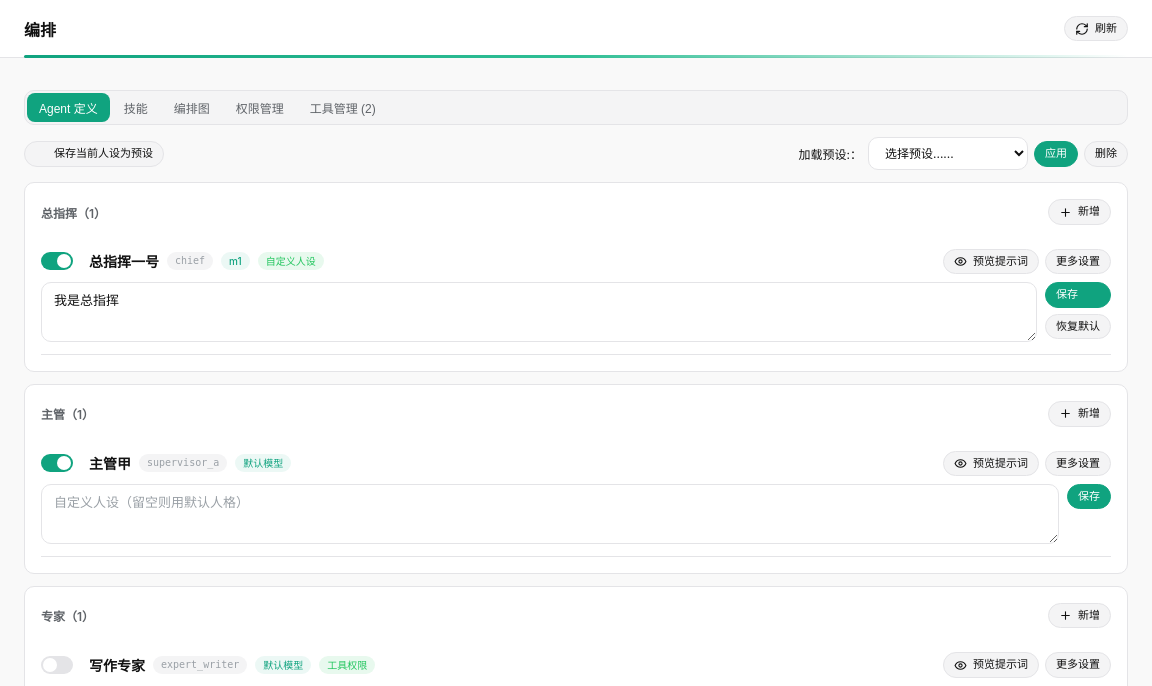
Scenario: Orchestration.vue › DOM 交互：更多设置展开/收起面板
expect the text "完整系统提示词覆盖" is not shown: met
Click the button "更多设置" in the row of "自定义人设".
click(1078, 262)  # box [1045, 249, 1111, 274]
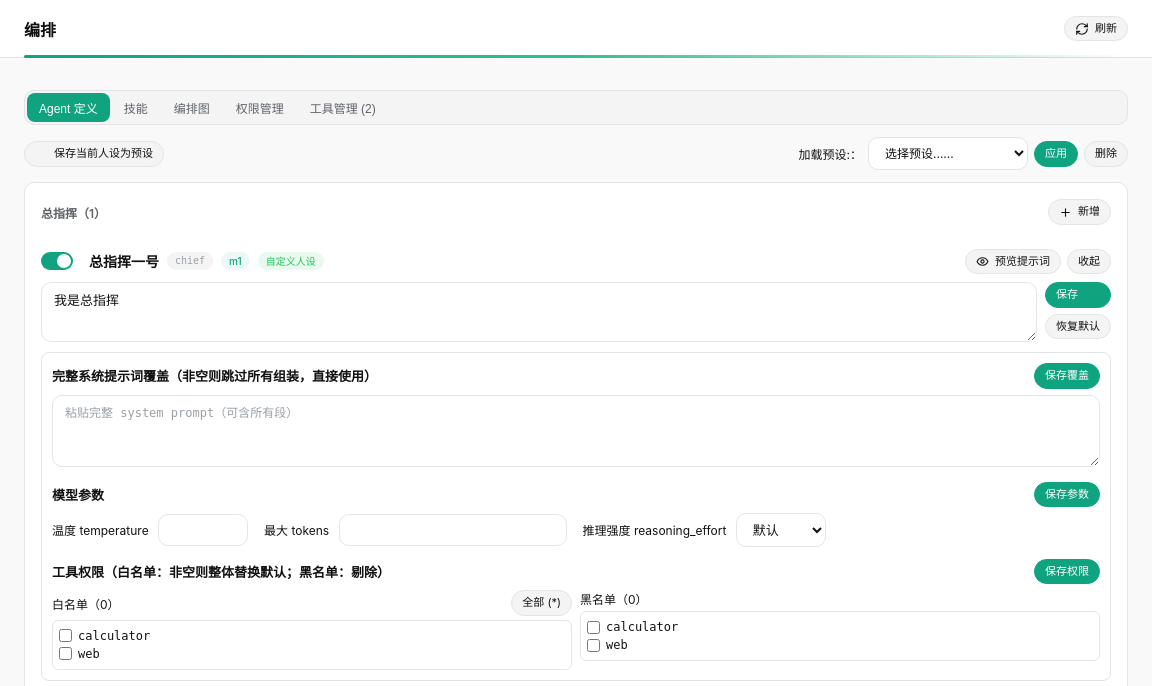
expect the text "工具权限" is shown: met, box [52, 564, 390, 580]
expect the text "完整系统提示词覆盖" is shown: met, box [52, 368, 377, 384]
expect the text "模型参数" is shown: met, box [52, 485, 104, 504]
Click the button "收起".
click(1089, 262)  # box [1067, 249, 1111, 274]
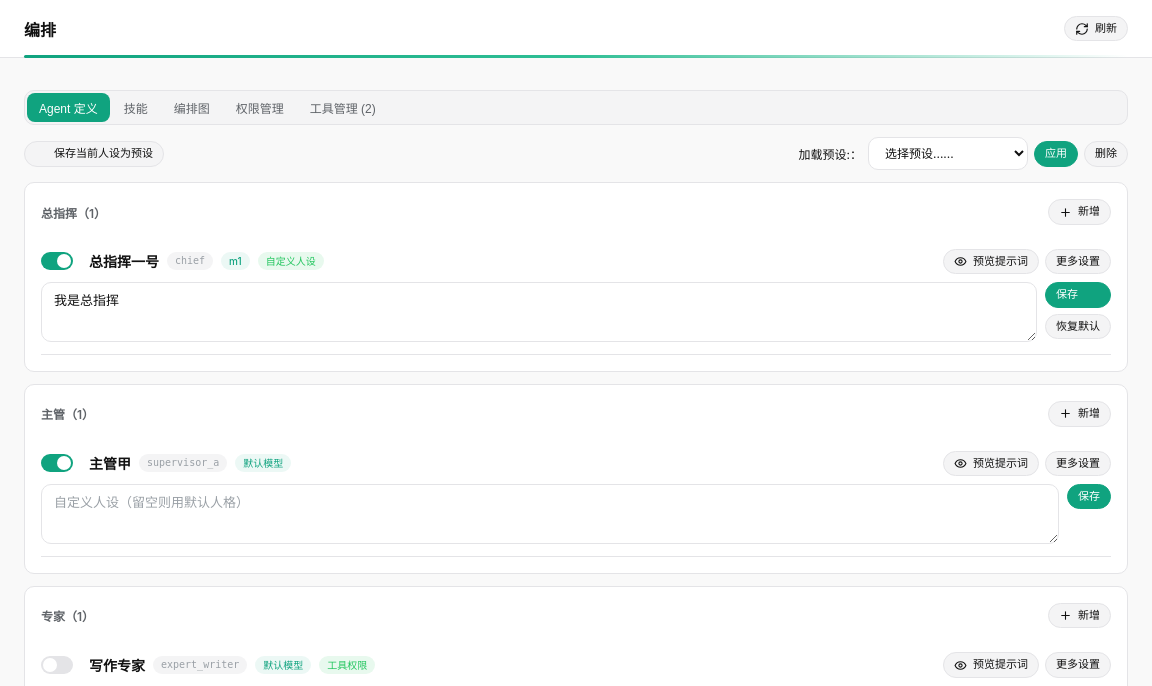
expect the text "完整系统提示词覆盖" is gone: met
